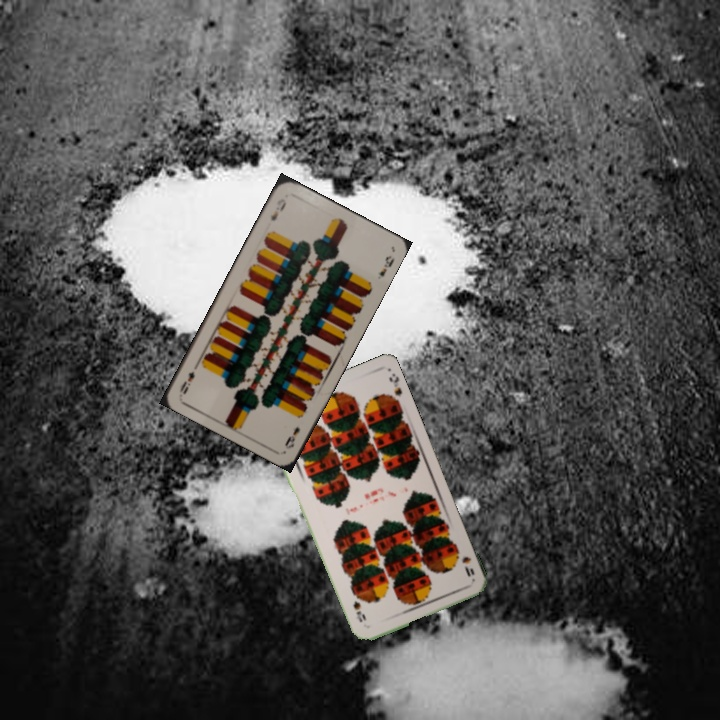E9: (266, 194, 289, 224), (281, 423, 302, 452)
S9: (452, 544, 477, 579)
